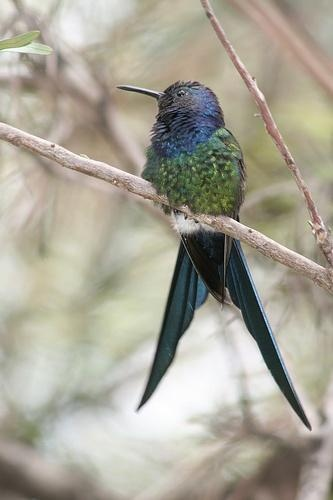bird: (119, 82, 313, 433)
